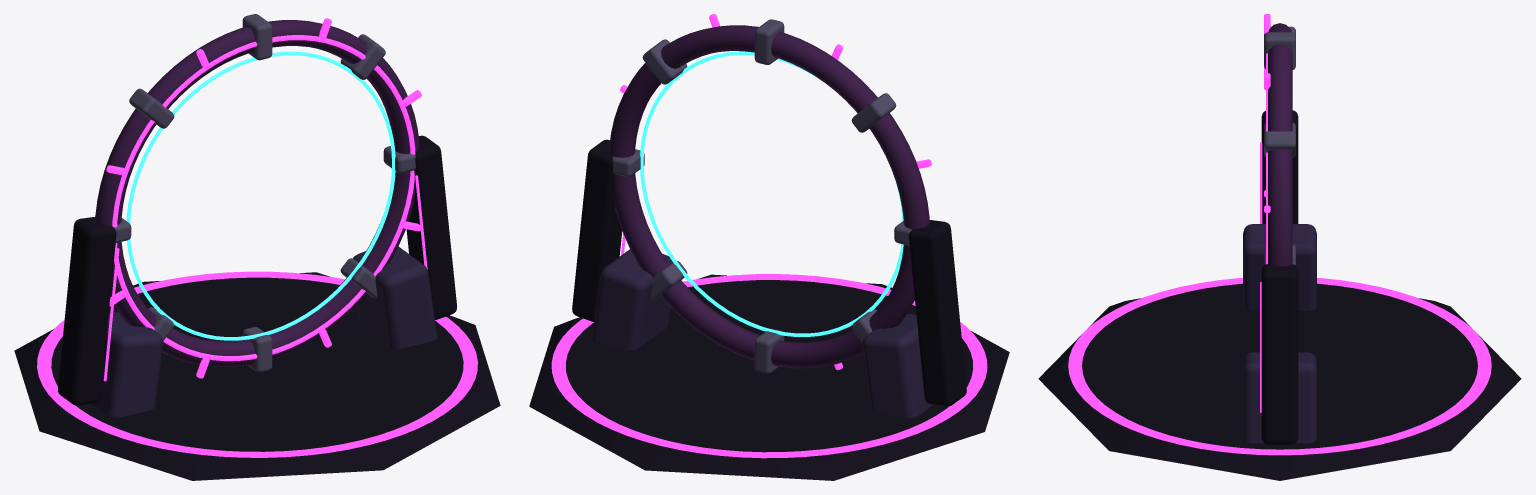
The model's file is riftgate.glb.
3 views of the same model, side by side, from view 1: azimuth 30°, elevation 25°; view 2: azimuth 150°, elevation 25°; view 3: azimuth 270°, elevation 25° (orthographic). The views are drawn at different scales.
Parts seen in each view (by area): view 1: root:dark, ring:plate, root:hull, root:glow, ring:glow, ring:alloy, ring:glow2; view 2: root:dark, ring:plate, root:hull, root:glow, ring:alloy, ring:glow2; view 3: root:dark, root:glow, root:hull, ring:plate, ring:alloy, ring:glow.
Boxes of the visible parts, bbox=[...] form: root:dark: bbox=[14, 135, 500, 480]; ring:plate: bbox=[95, 20, 419, 366]; root:hull: bbox=[92, 246, 437, 417]; root:glow: bbox=[37, 175, 477, 457]; ring:glow: bbox=[106, 18, 421, 378]; ring:alloy: bbox=[114, 14, 415, 372]; ring:glow2: bbox=[126, 51, 395, 340]; root:dark: bbox=[529, 139, 1009, 480]; ring:plate: bbox=[609, 25, 929, 368]; root:hull: bbox=[592, 249, 933, 418]; root:glow: bbox=[551, 234, 987, 458]; ring:alloy: bbox=[613, 19, 912, 373]; ring:glow2: bbox=[640, 51, 903, 336]; root:dark: bbox=[1038, 110, 1521, 480]; root:glow: bbox=[1068, 142, 1491, 455]; root:hull: bbox=[1243, 224, 1316, 443]; ring:plate: bbox=[1268, 23, 1292, 266]; ring:alloy: bbox=[1264, 26, 1295, 265]; ring:glow: bbox=[1264, 14, 1270, 264].
Bounding box in the file's own units: 21 × 16.58 × 21.
